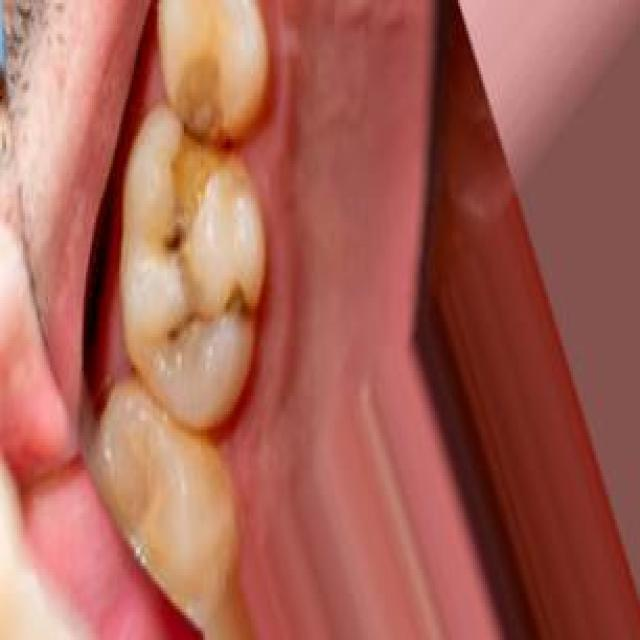caries: (154, 48, 232, 210), (155, 287, 215, 352), (147, 210, 195, 272), (218, 277, 260, 336)
